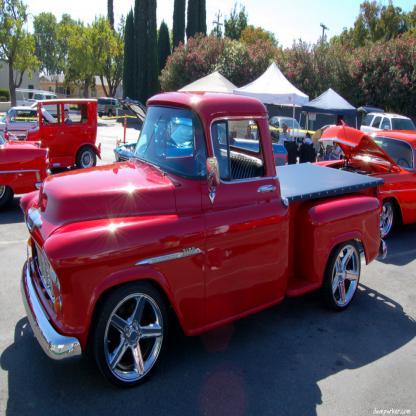Car: (19, 94, 383, 390), (311, 119, 416, 235), (6, 101, 98, 168), (0, 130, 49, 212), (360, 115, 416, 136)
Truck: (19, 91, 387, 388)
